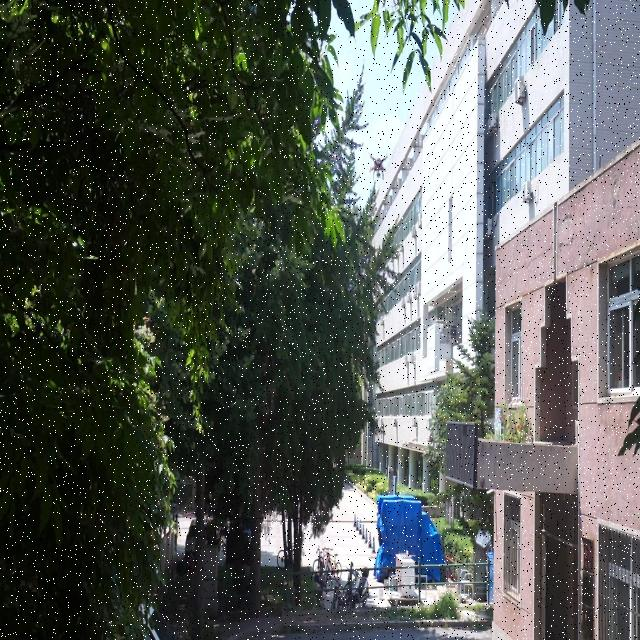UAV: (362, 148, 394, 180)
